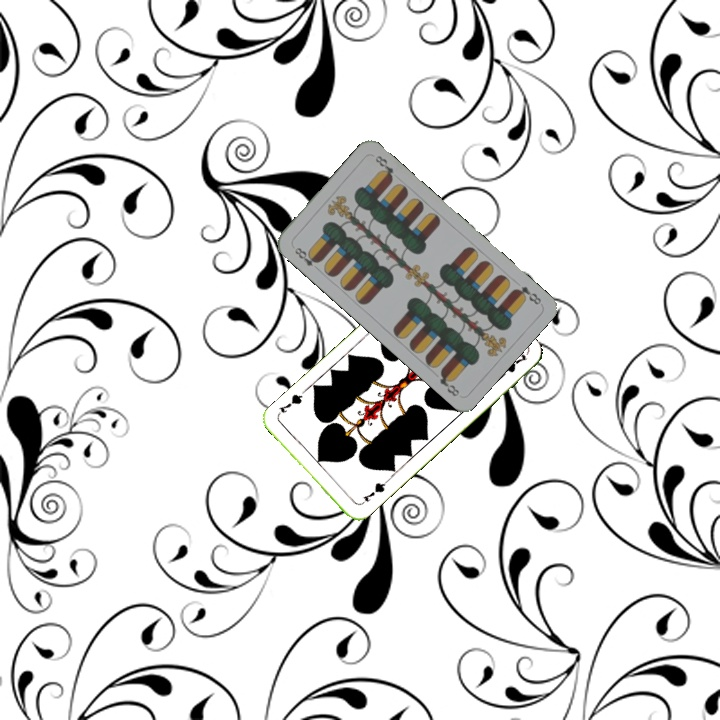E8: (290, 243, 322, 273), (510, 282, 544, 307)
G7: (359, 477, 389, 504)
